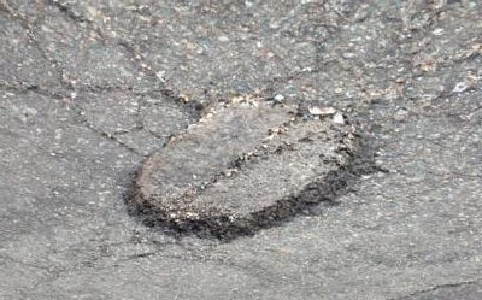pothole: (120, 92, 384, 248)
